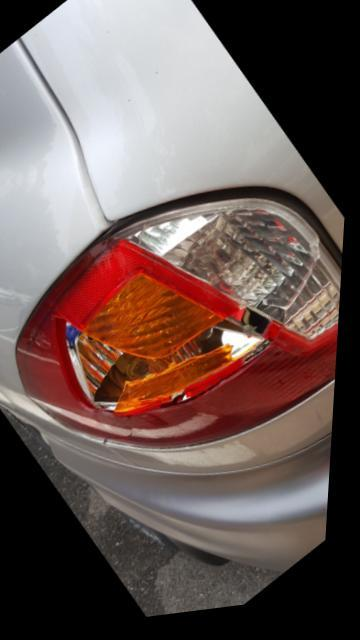lamp broken: (17, 205, 346, 455)
scratch: (0, 284, 36, 307)
